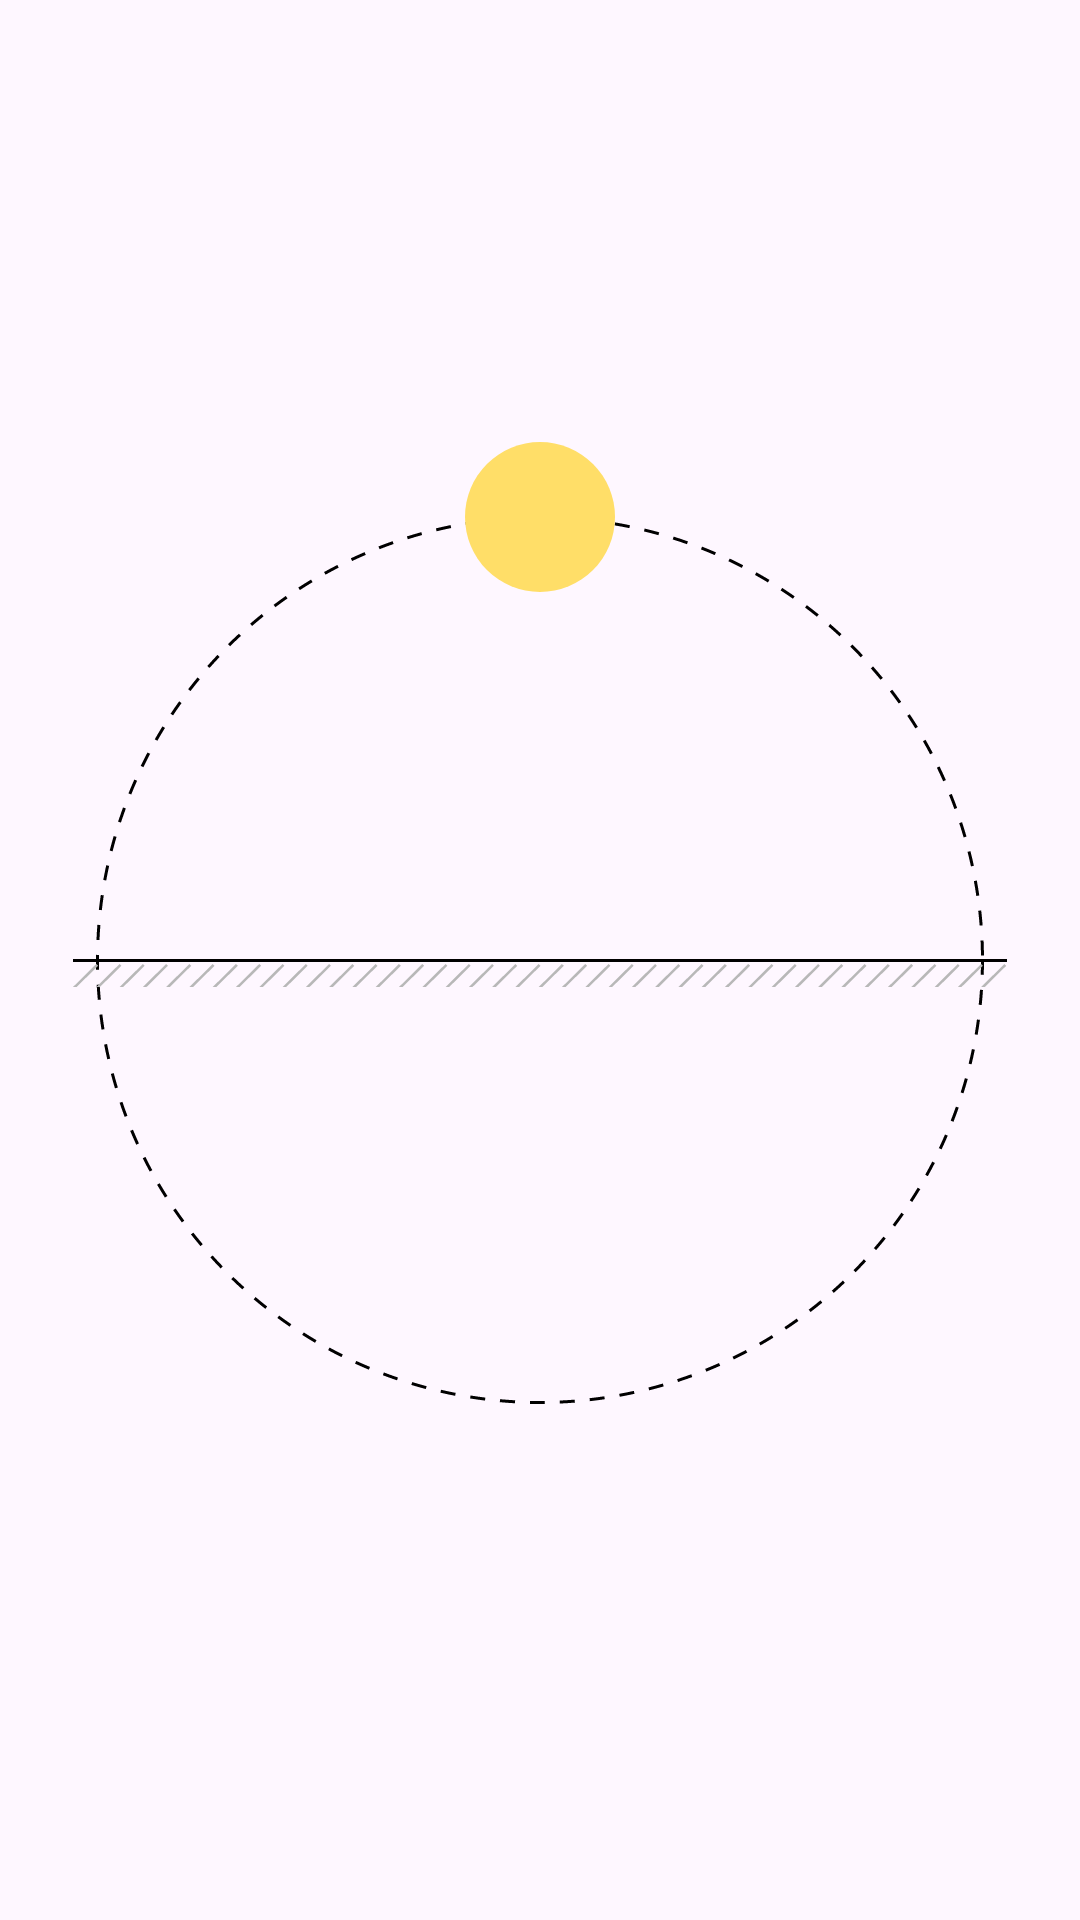

Named icons in this screenshot (1080 × 1920) and their bounding boxes, Rect(x1, y1, x2, y2):
sun: Rect(465, 442, 615, 592)
